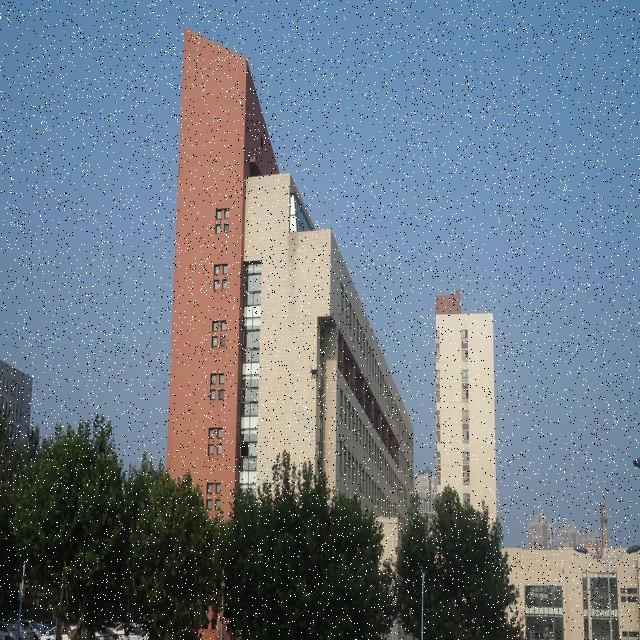UAV: (310, 366, 320, 380)
